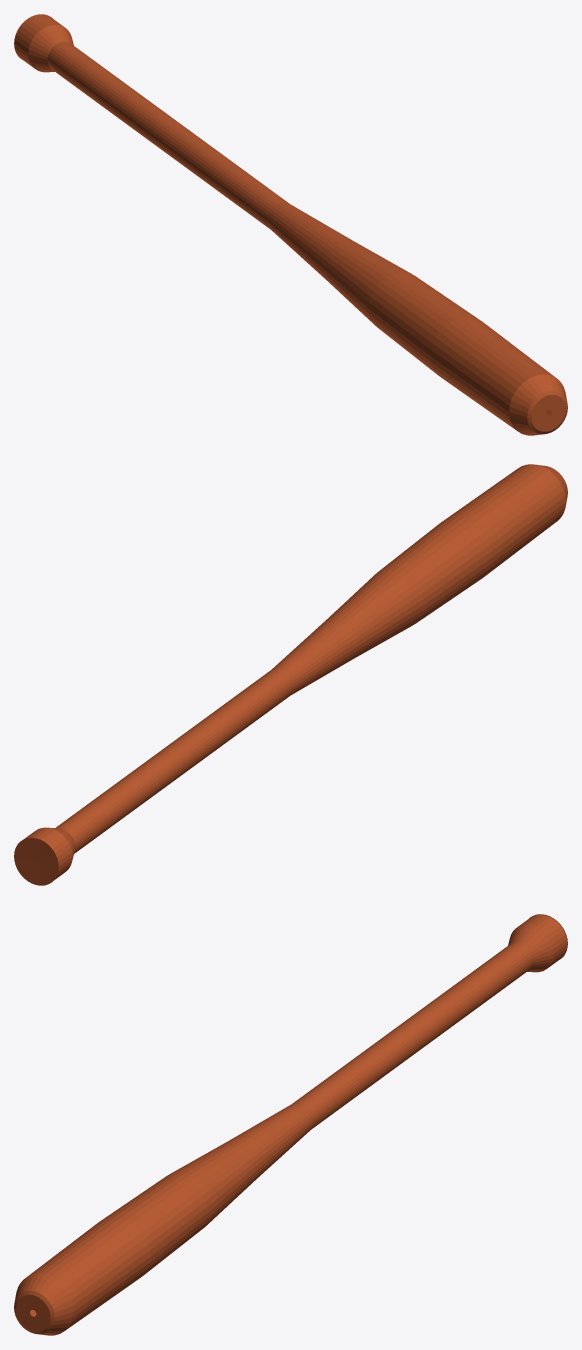
Rendered from baseballBat.glb.
The picture shows the model from 3 angles, top to bottom: view 1: azimuth 30°, elevation 25°; view 2: azimuth 150°, elevation 25°; view 3: azimuth 330°, elevation 25°; orthographic projection.
Visible parts, largest first — view 1: Circle; view 2: Circle; view 3: Circle.
Part boxes in pixels (<box>): Circle: <box>14,14,567,435</box>; Circle: <box>14,464,567,885</box>; Circle: <box>14,914,567,1335</box>.
Size of the model in its own units: 0.2833 by 0.2833 by 4.17.
